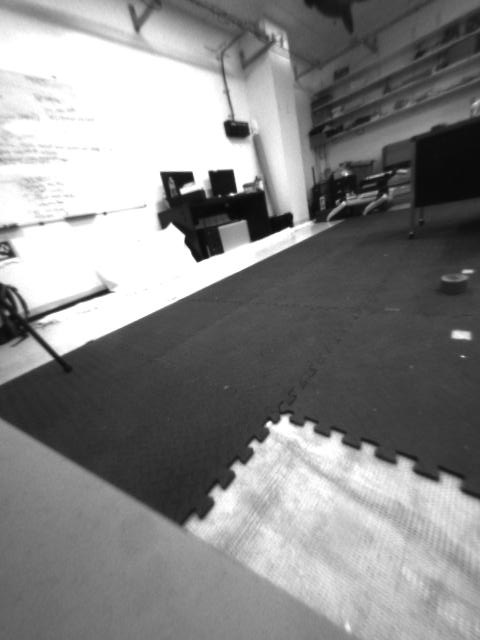dogtoy: (434, 269, 471, 299)
